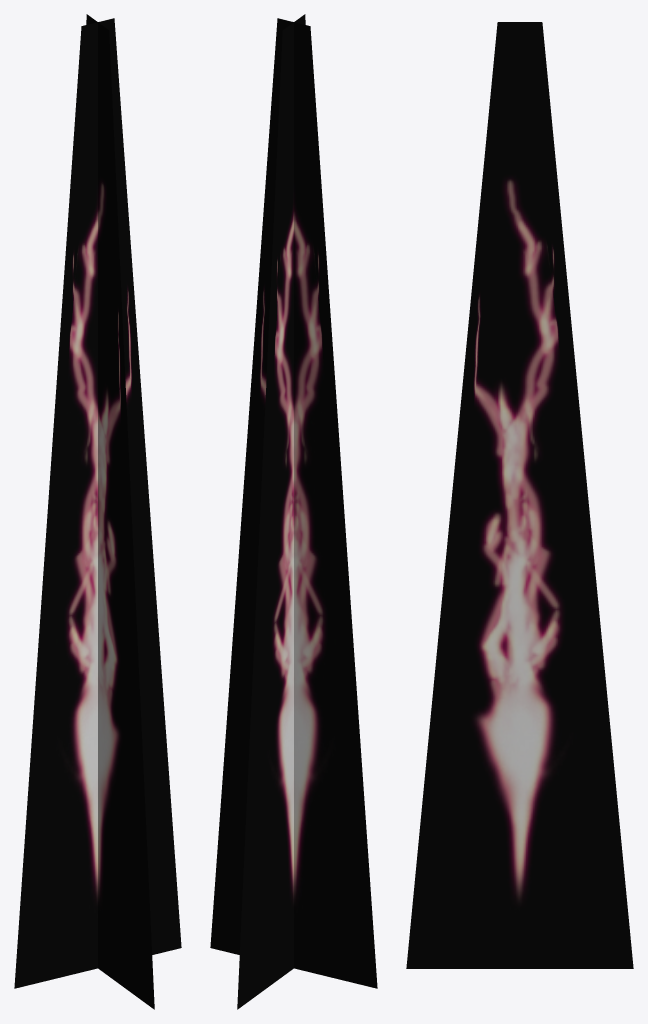
The model's file is zhufudatianshizhinu001.fbx.
The picture shows the model from 3 angles, left to right: view 1: azimuth 30°, elevation 25°; view 2: azimuth 150°, elevation 25°; view 3: azimuth 270°, elevation 25°; orthographic projection.
Parts seen in each view (by area): view 1: zhufudatianshizhinu001; view 2: zhufudatianshizhinu001; view 3: zhufudatianshizhinu001.
Part boxes in pixels (<box>): zhufudatianshizhinu001: <box>14,14,181,1009</box>; zhufudatianshizhinu001: <box>210,14,377,1009</box>; zhufudatianshizhinu001: <box>406,22,633,968</box>.
Size of the model in its own units: 135 by 732 by 159.
1 material, 1 textured.
